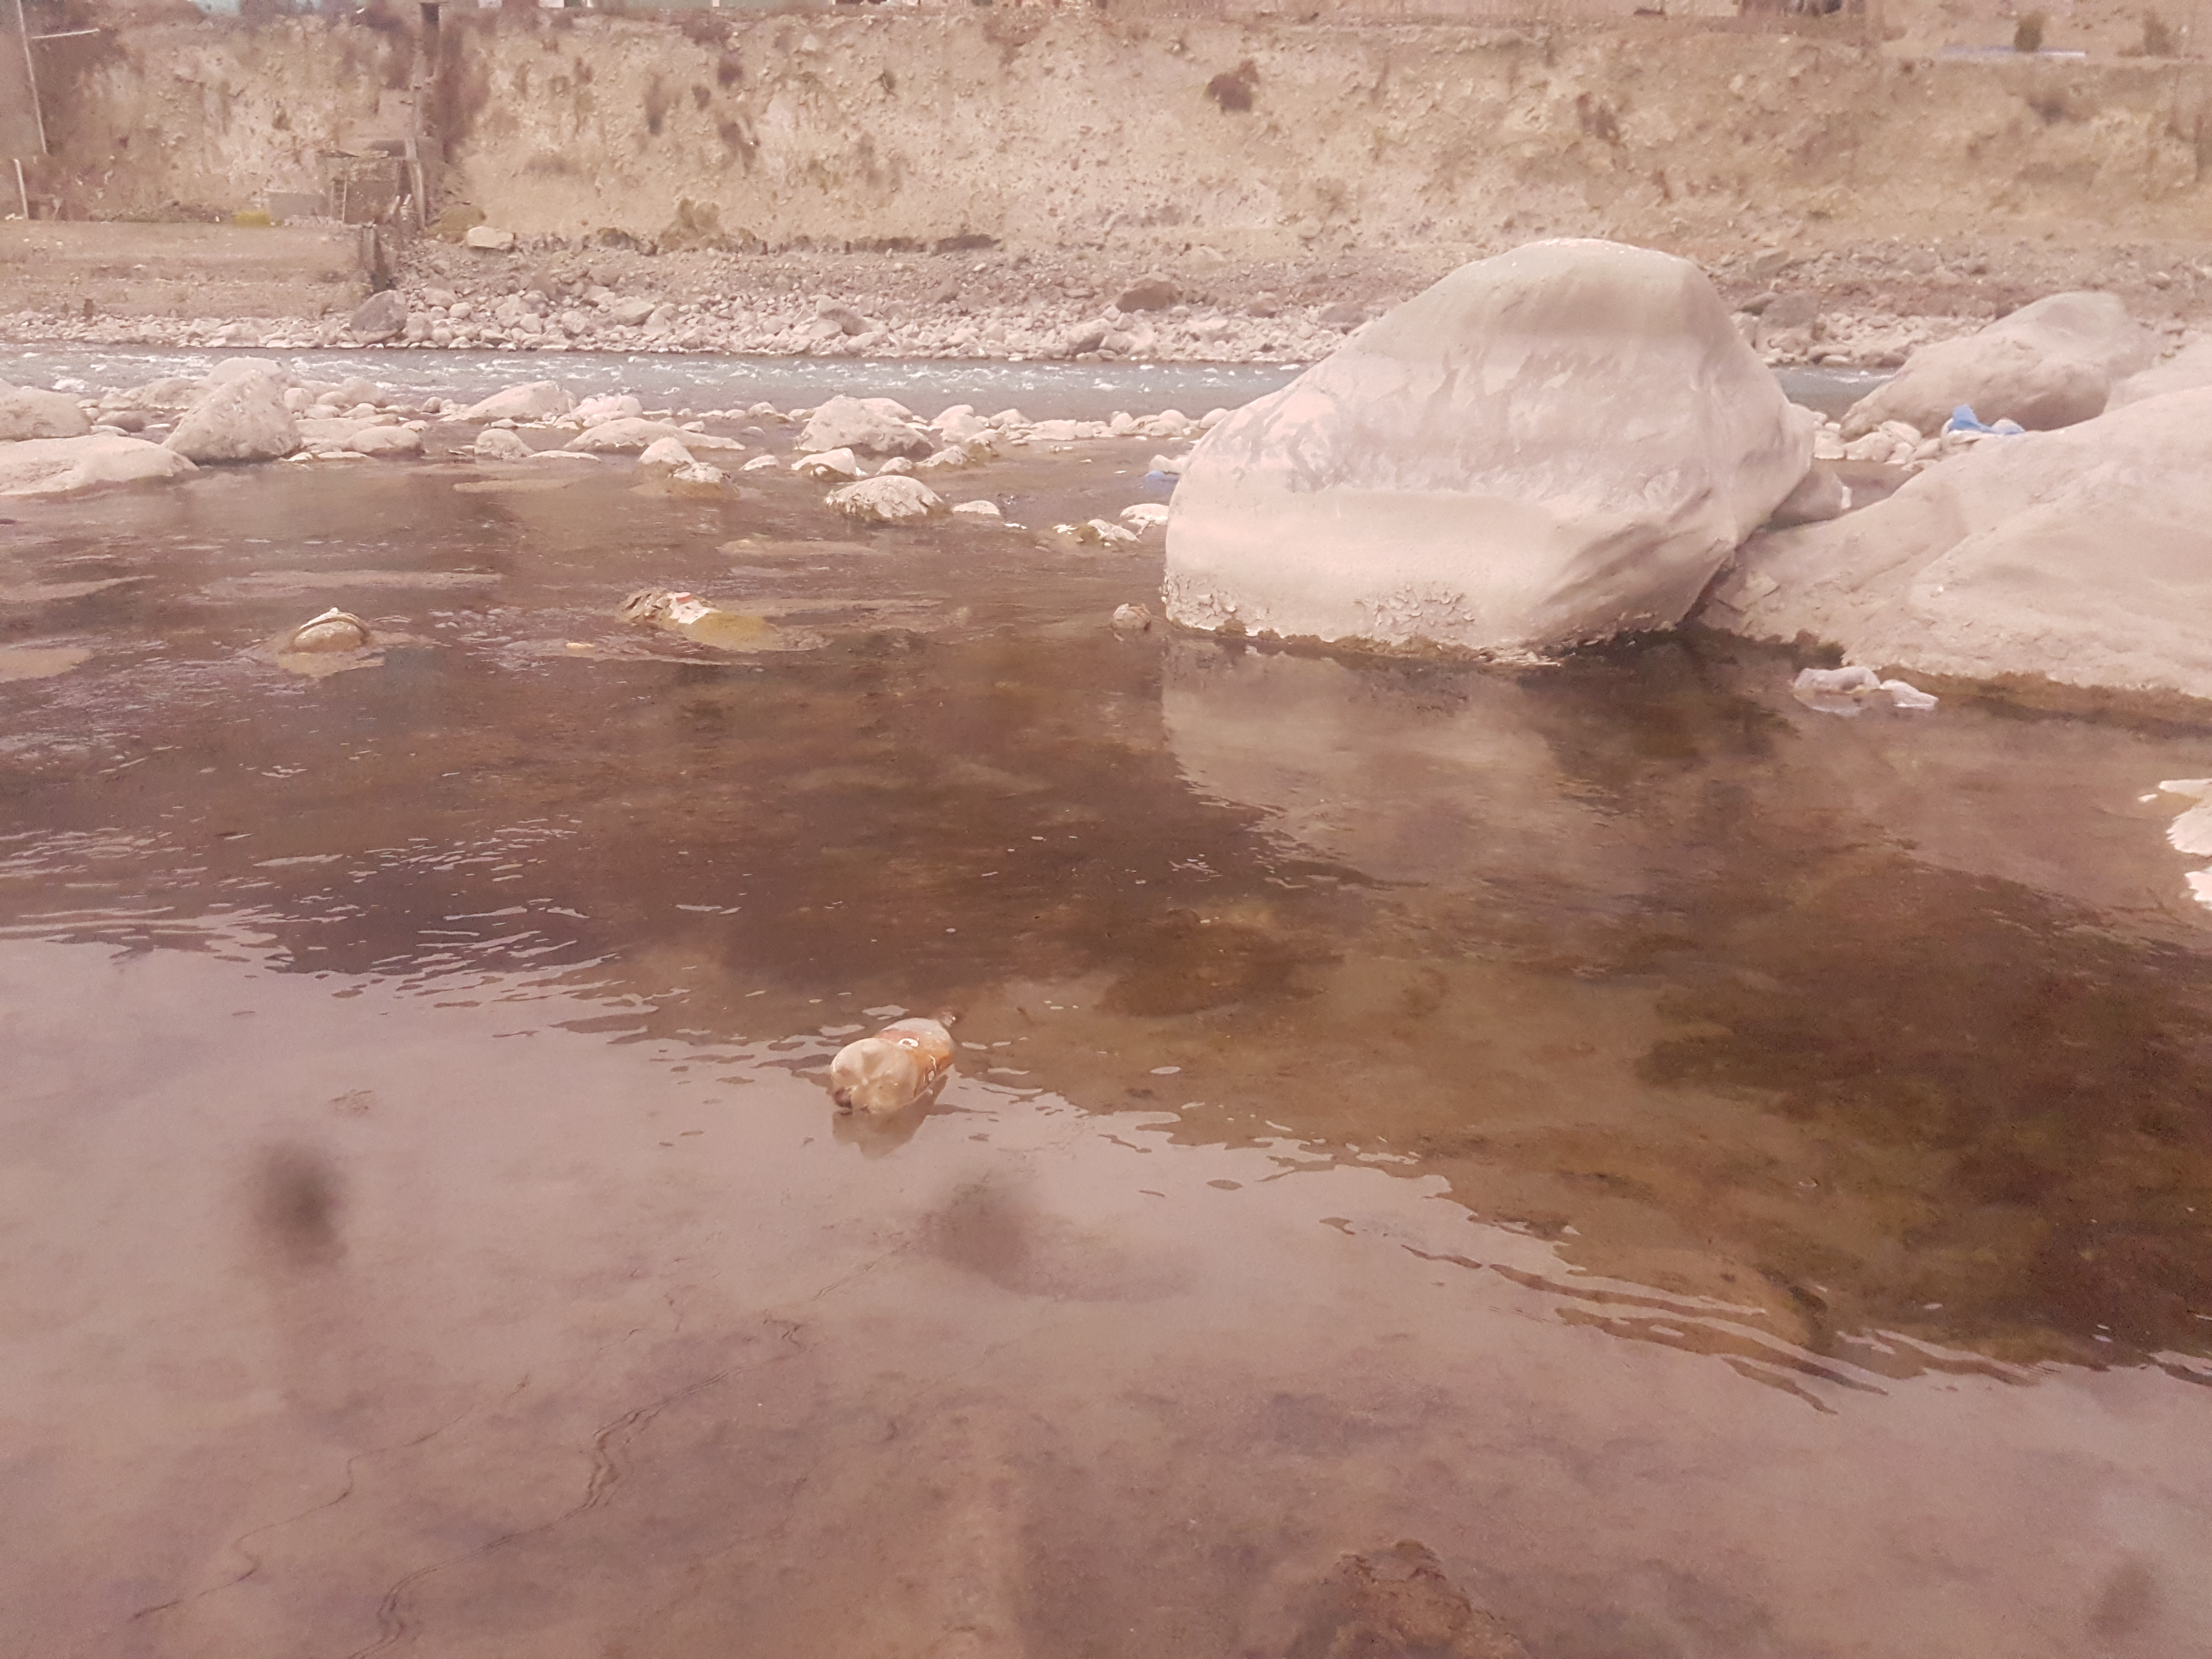Plastic Bottle: (827, 1006, 960, 1112), (1113, 603, 1150, 627), (1144, 471, 1165, 477)
